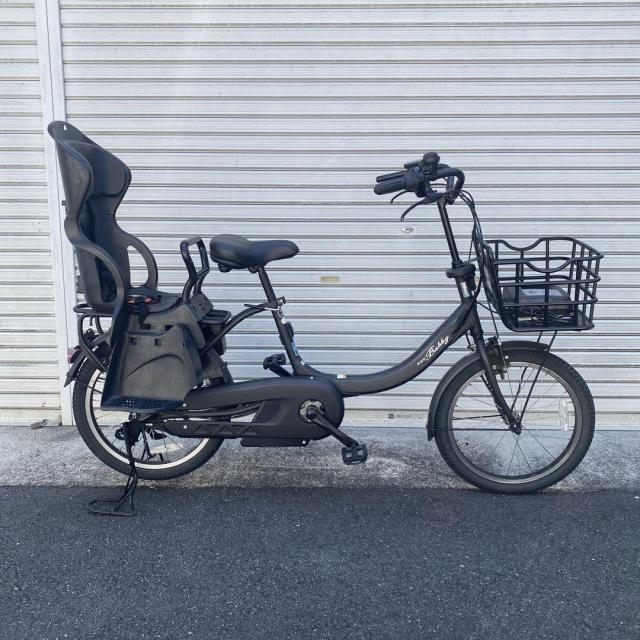basket: (483, 231, 605, 327)
childseat: (45, 110, 221, 414)
